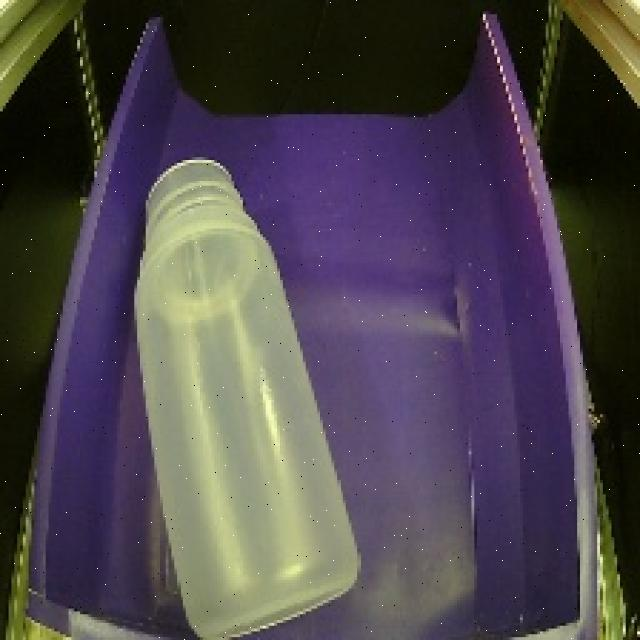plastic: (114, 143, 369, 640)
